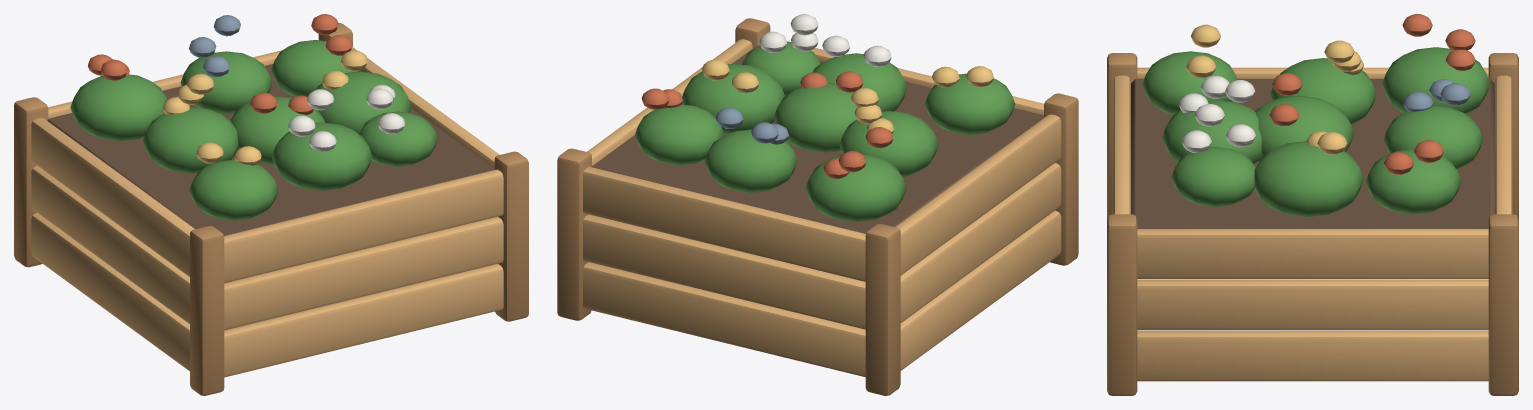
The model's file is planter.glb.
3 views of the same model, side by side, from view 1: azimuth 30°, elevation 25°; view 2: azimuth 150°, elevation 25°; view 3: azimuth 270°, elevation 25° (orthographic). The views are drawn at different scales.
Parts seen in each view (by area): view 1: pine, leaf, crate, soil, poster_c, food_c, sheet, book_a; view 2: pine, leaf, crate, soil, poster_c, food_c, sheet, book_a; view 3: pine, leaf, soil, crate, food_c, sheet, poster_c, book_a.
Boxes of the visible parts, x1,y1,x2,y2 form: pine: (31,47,503,377); leaf: (70,40,437,220); crate: (14,23,528,395); soil: (47,64,494,235); poster_c: (163,50,367,165); food_c: (88,14,352,114); sheet: (288,84,405,151); book_a: (189,15,240,77); pine: (583,39,1061,377); leaf: (635,42,1015,221); crate: (557,18,1078,395); soil: (592,45,1044,233); poster_c: (702,59,993,133); food_c: (641,71,893,178); sheet: (759,14,891,66); book_a: (716,107,788,144); pine: (1113,67,1512,381); leaf: (1142,47,1490,216); soil: (1131,78,1494,228); crate: (1107,53,1518,395); food_c: (1269,14,1475,174); sheet: (1179,76,1255,152); poster_c: (1186,24,1363,154); book_a: (1403,79,1470,112).
Size of the model in its own units: 0.95 by 0.6045 by 0.95.
